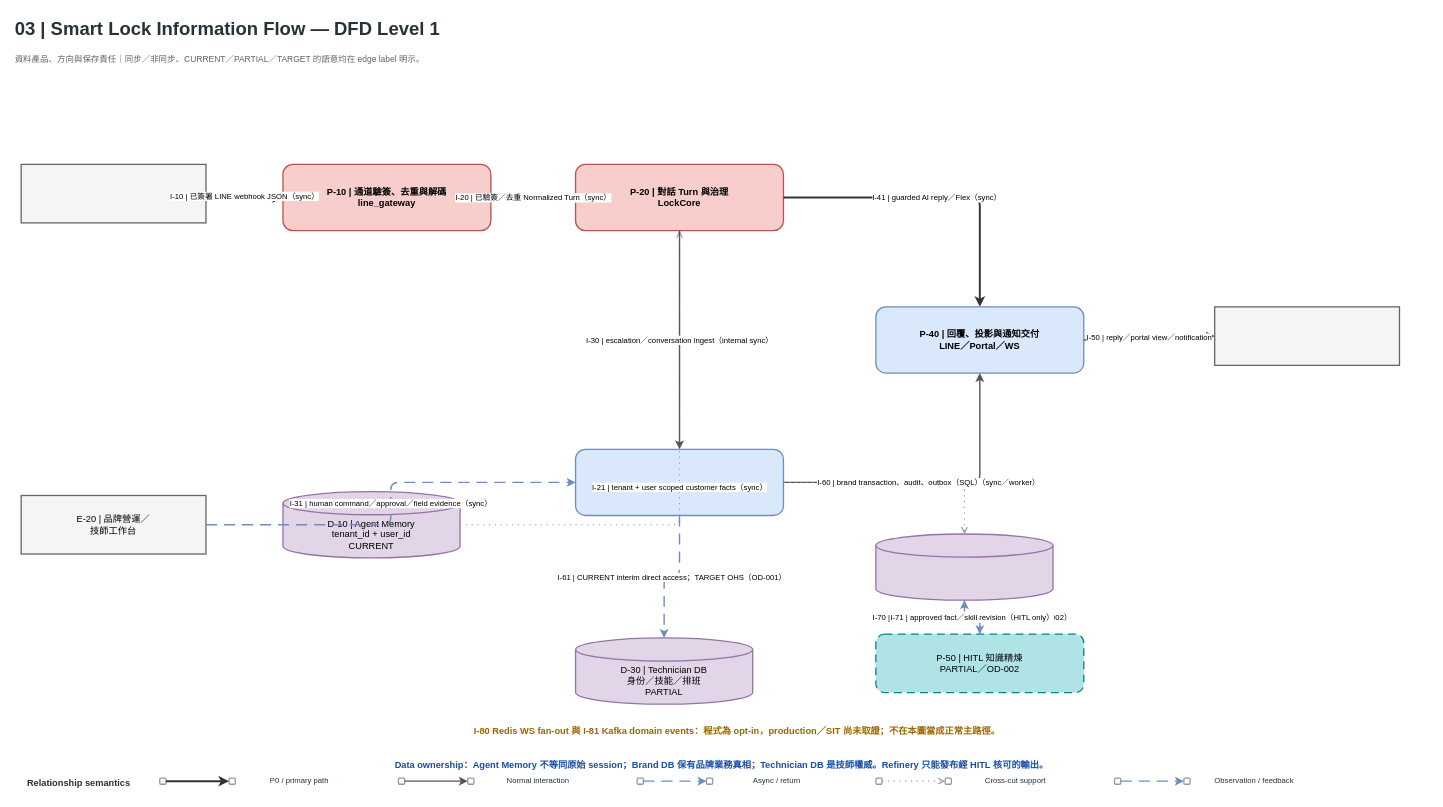
Some shapes in this 1443 by 807 pixel diagram are drawn without their labels. Here are the shapes that lost their labels. From the top down, the centre of each, then its label:
the point at 113,193: E-10 | LINE 使用者／ LIFF postback
the point at 1307,336: E-30 | 客戶／營運人員／ 技師
the point at 679,482: P-30 | 品牌領域命令與 guard API control plane
the point at 964,567: D-20 | Brand DB + pgvector 交易／對話／outbox／知識 CURRENT（環境待取證）
